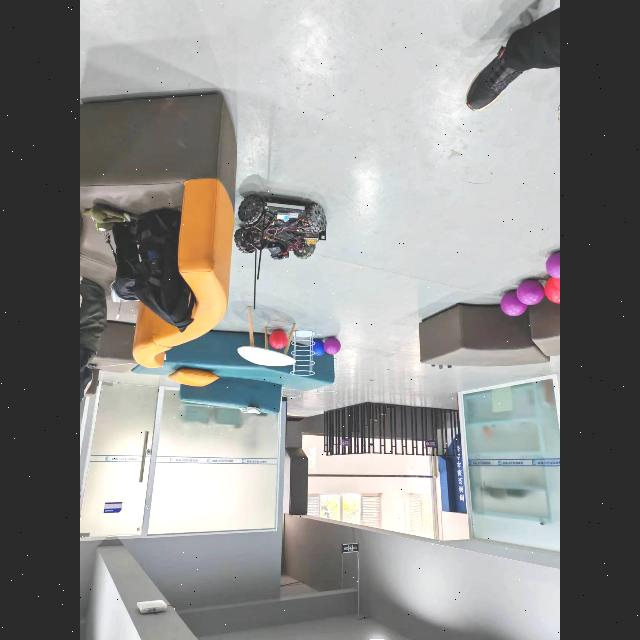B: (309, 338, 325, 358)
P: (516, 279, 545, 305), (500, 291, 528, 316), (545, 251, 560, 279), (324, 336, 341, 355)
R: (544, 278, 560, 304), (269, 330, 288, 349)
S: (291, 330, 315, 374)
